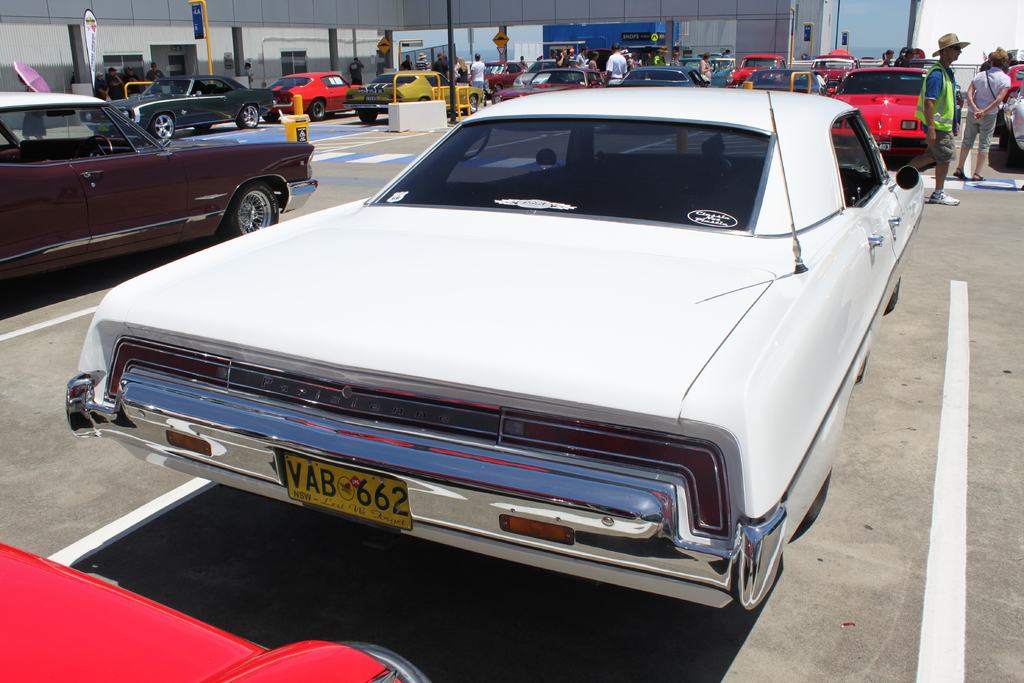Car: (0, 53, 1023, 682)
